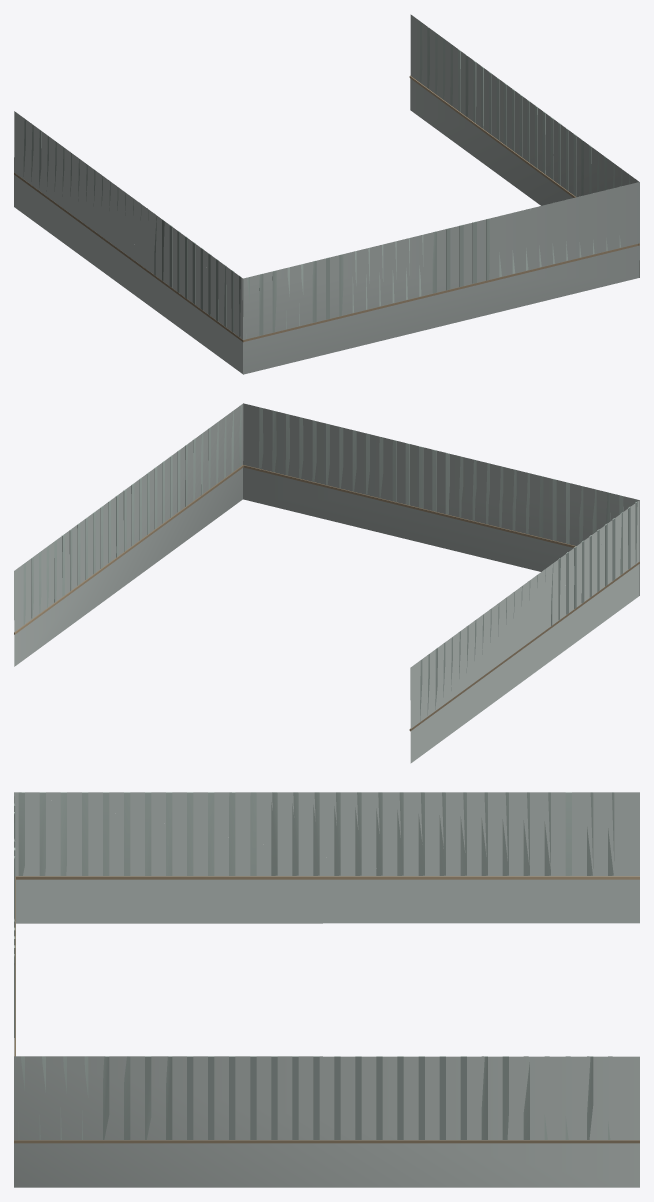
The model's file is home_wallpaper__mint_low.glb.
3 views of the same model, one above another, from view 1: azimuth 30°, elevation 25°; view 2: azimuth 150°, elevation 25°; view 3: azimuth 270°, elevation 25° (orthographic). The views are drawn at different scales.
Bounding box in the file's own units: 11.9 × 2.75 × 11.9.
